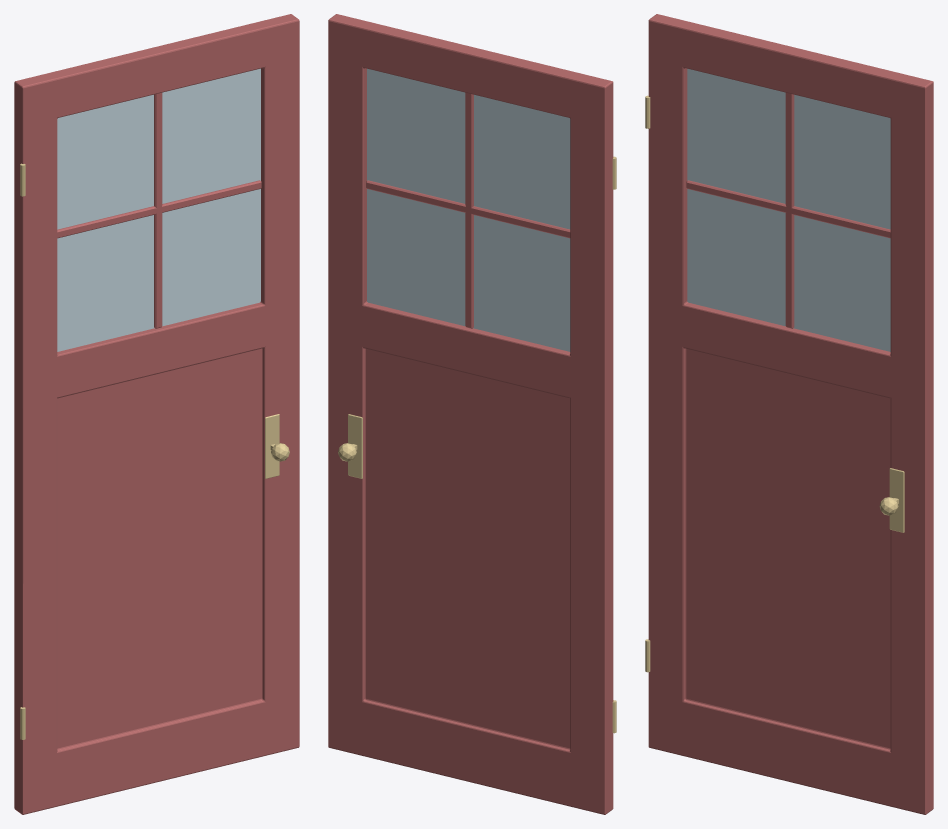
Rendered from door_leaf_front.glb.
The picture shows the model from 3 angles, left to right: view 1: azimuth 30°, elevation 25°; view 2: azimuth 150°, elevation 25°; view 3: azimuth 330°, elevation 25°; orthographic projection.
Visible parts, largest first — view 1: door_leaf_front_door, door_leaf_front_glass, door_leaf_front_brass; view 2: door_leaf_front_door, door_leaf_front_glass, door_leaf_front_brass; view 3: door_leaf_front_door, door_leaf_front_glass, door_leaf_front_brass.
Part boxes in pixels (x1,y1,x2,y2): door_leaf_front_door: (14, 14, 299, 814); door_leaf_front_glass: (57, 68, 260, 351); door_leaf_front_brass: (20, 163, 289, 739); door_leaf_front_door: (328, 14, 613, 814); door_leaf_front_glass: (367, 68, 570, 351); door_leaf_front_brass: (338, 156, 616, 733); door_leaf_front_door: (648, 14, 933, 814); door_leaf_front_glass: (687, 68, 890, 351); door_leaf_front_brass: (645, 95, 904, 672).
Size of the model in its own units: 0.948 by 2.36 by 0.206.
